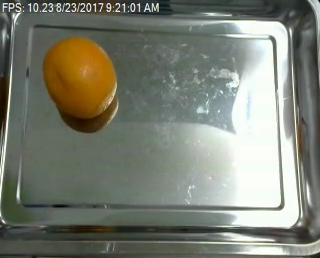Orange: (42, 37, 118, 120)
